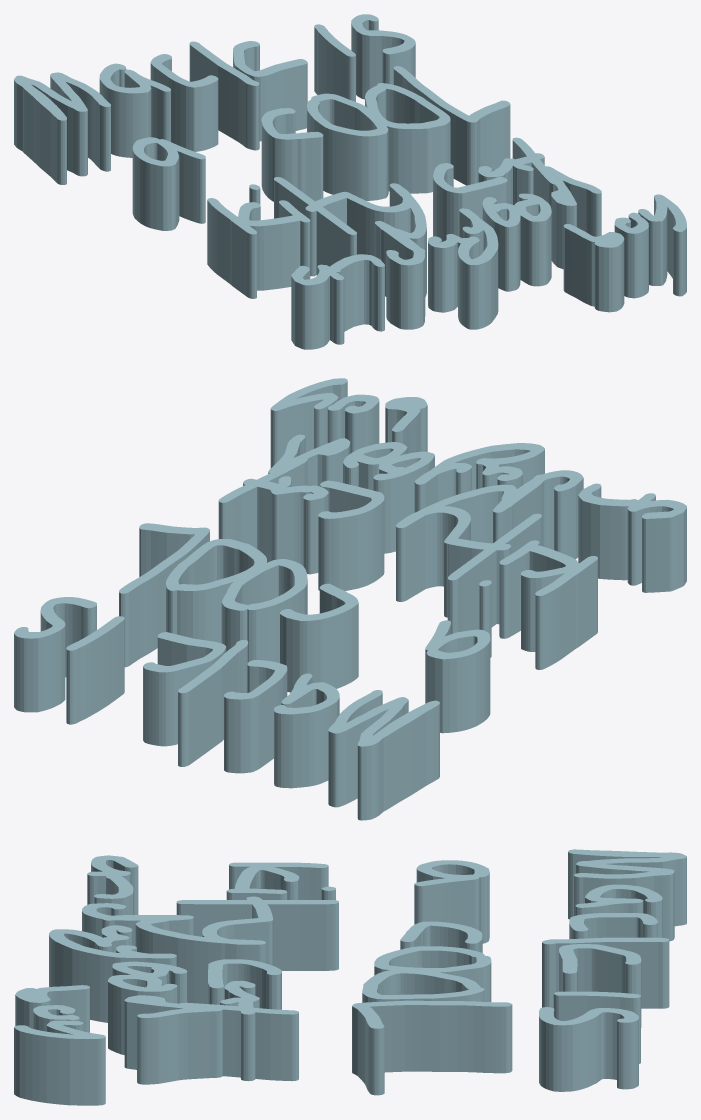
Rendered from Epic Juttuli-Waasa.glb.
The picture shows the model from 3 angles, top to bottom: view 1: azimuth 30°, elevation 25°; view 2: azimuth 150°, elevation 25°; view 3: azimuth 270°, elevation 25°; orthographic projection. The views are drawn at different scales.
Visible parts, largest first — view 1: Mesh_Mesh_head_geo.001_lambert2SG.001; view 2: Mesh_Mesh_head_geo.001_lambert2SG.001; view 3: Mesh_Mesh_head_geo.001_lambert2SG.001.
Boxes of the visible parts, x1,y1,x2,y2 form: Mesh_Mesh_head_geo.001_lambert2SG.001: (14, 14, 686, 349); Mesh_Mesh_head_geo.001_lambert2SG.001: (14, 378, 686, 820); Mesh_Mesh_head_geo.001_lambert2SG.001: (14, 849, 686, 1105).
Bounding box in the file's own units: 0.061 × 0.01 × 0.0915.
